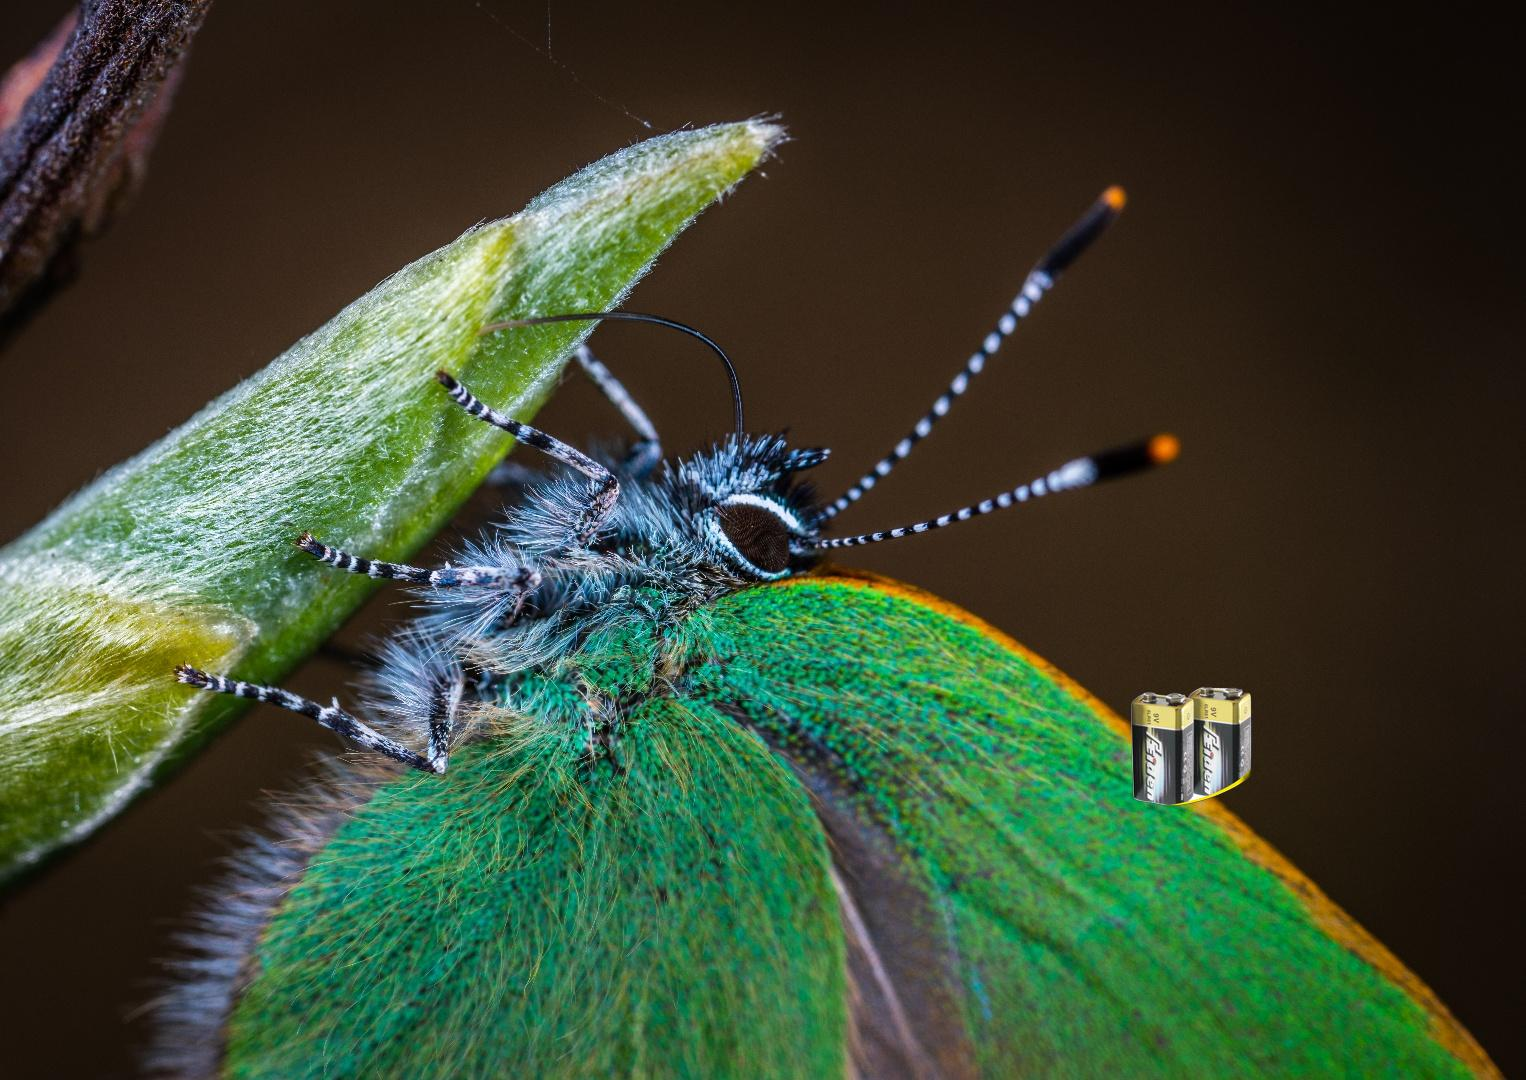battery: (1128, 684, 1258, 809)
